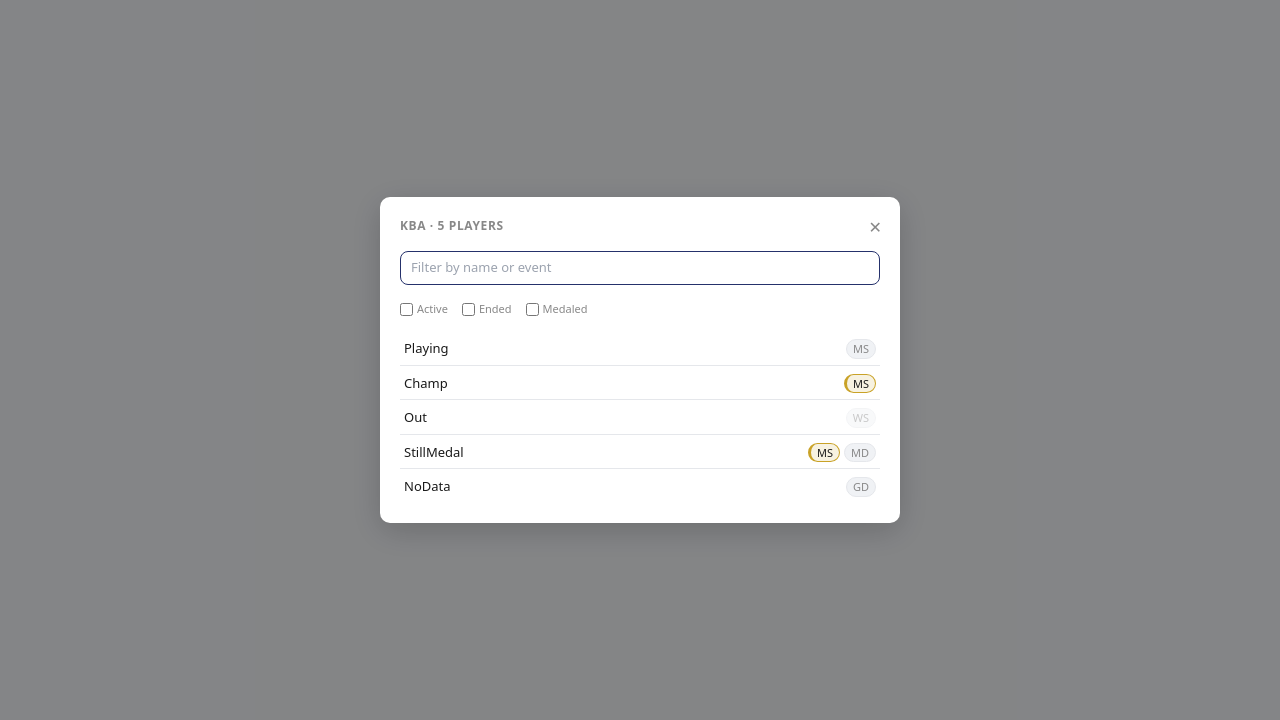
Test case: RosterModal status filters › Medaled shows only players who won a medal, even if still playing
The width and height of the screenshot is (1280, 720).
Click the checkbox labelled "Medaled". click: (532, 309)
box: x1=526 y1=302 x2=539 y2=316
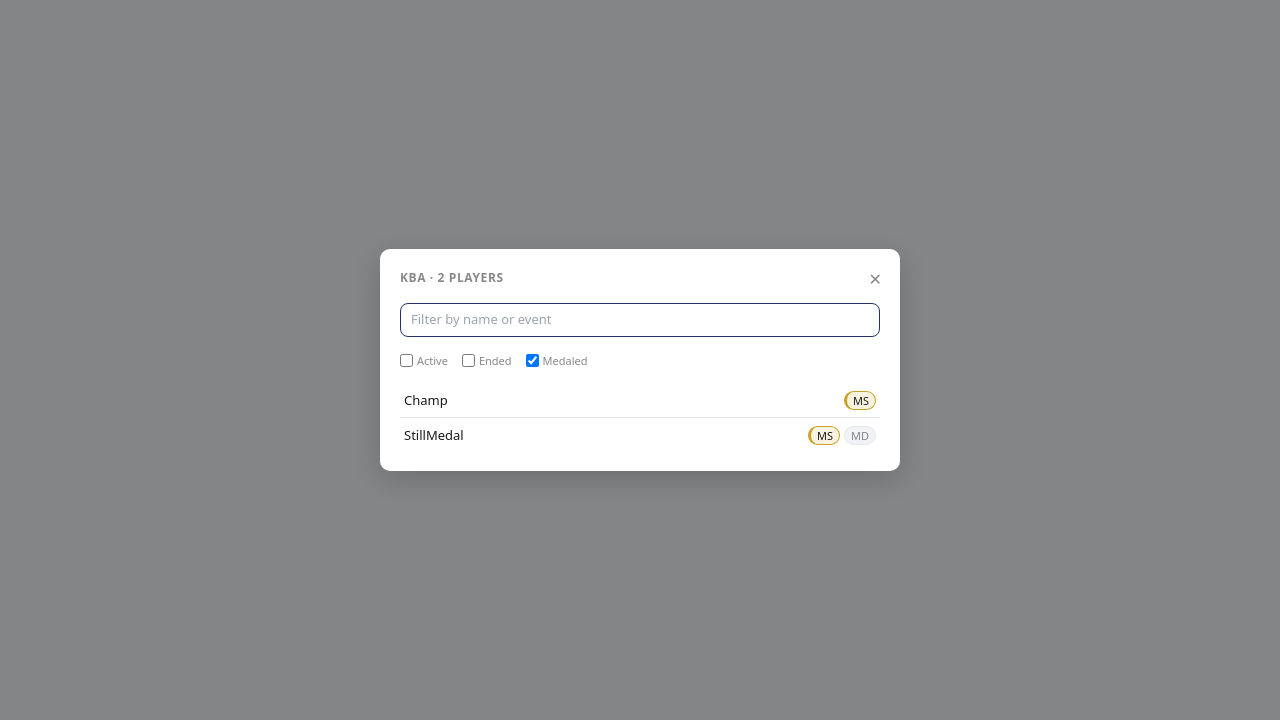
Result: the text "KBA · 2 Players" is shown at x1=400 y1=269 x2=504 y2=286
